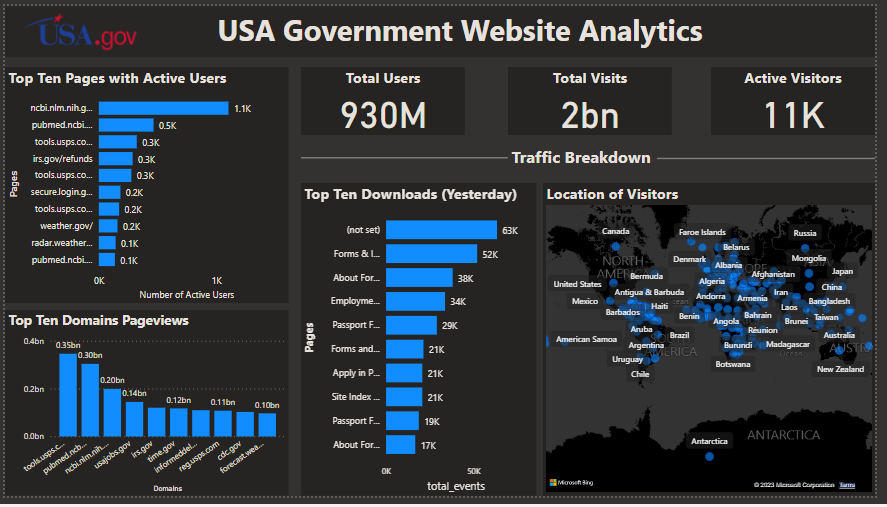

What the dashboard file says about the page in this screenshot:
{"tool":"powerbi","page":{"name":"Page 1","canvas":[1280,720],"ordinal":0},"visuals":[{"type":"shape","box":[0,0,1280,75.5],"z":0},{"type":"textbox","box":[307.4,0,736.8,73.5],"z":1000},{"type":"image","box":[23.5,0,175,73.5],"z":2000},{"type":"card","title":"Total Users","fields":{"Values":["Sum(all-domains-30-days.users)"]},"box":[435.7,90,241.4,100],"z":3000},{"type":"card","title":"Total Visits","fields":{"Values":["Sum(all-domains-30-days.visits)"]},"box":[740,90,241.4,100],"z":4000},{"type":"card","title":"Active Visitors","fields":{"Values":["Sum(all-pages-realtime.active_visitors)"]},"box":[1038.8,90.3,241.2,100.1],"z":5000},{"type":"shape","box":[958.6,190,321.4,68.6],"z":6000},{"type":"textbox","box":[740,200,241.4,48.6],"z":7000},{"type":"shape","box":[435.7,190,304.3,67.1],"z":8000},{"type":"map","title":"Location of Visitors","fields":{"Category":["Visitors_per_country.data.country"]},"box":[791,260,489,460],"z":9000},{"type":"barChart","title":"Top Ten Downloads (Yesterday)","fields":{"Category":["top-downloads-yesterday.page_title"],"Y":["Sum(top-downloads-yesterday.total_events)"]},"box":[435.7,260,345.7,460],"z":10000},{"type":"clusteredColumnChart","title":"Top Ten Domains Pageviews","fields":{"Category":["all-domains-30-days.domain"],"Y":["Sum(all-domains-30-days.pageviews)"]},"box":[0,447.1,417.1,272.9],"z":11000},{"type":"barChart","title":"Top Ten Pages with Active Users","fields":{"Category":["all-pages-realtime.page"],"Y":["Sum(all-pages-realtime.active_visitors)"]},"box":[0,90,417.1,347.1],"z":11001}]}

Visuals, with their boxes in screenshot pixels (x1, y1, x2, y2), scaled from the page's 1280x720 canvas onto the 887x507 screenshot:
shape: Rect(0, 0, 886, 53)
textbox: Rect(213, 0, 724, 52)
image: Rect(16, 0, 138, 52)
"Total Users" card: Rect(302, 63, 469, 134)
"Total Visits" card: Rect(513, 63, 680, 134)
"Active Visitors" card: Rect(720, 64, 886, 134)
shape: Rect(664, 134, 886, 182)
textbox: Rect(513, 141, 680, 175)
shape: Rect(302, 134, 513, 181)
"Location of Visitors" map: Rect(548, 183, 886, 506)
"Top Ten Downloads (Yesterday)" barChart: Rect(302, 183, 541, 506)
"Top Ten Domains Pageviews" clusteredColumnChart: Rect(0, 315, 289, 506)
"Top Ten Pages with Active Users" barChart: Rect(0, 63, 289, 308)
